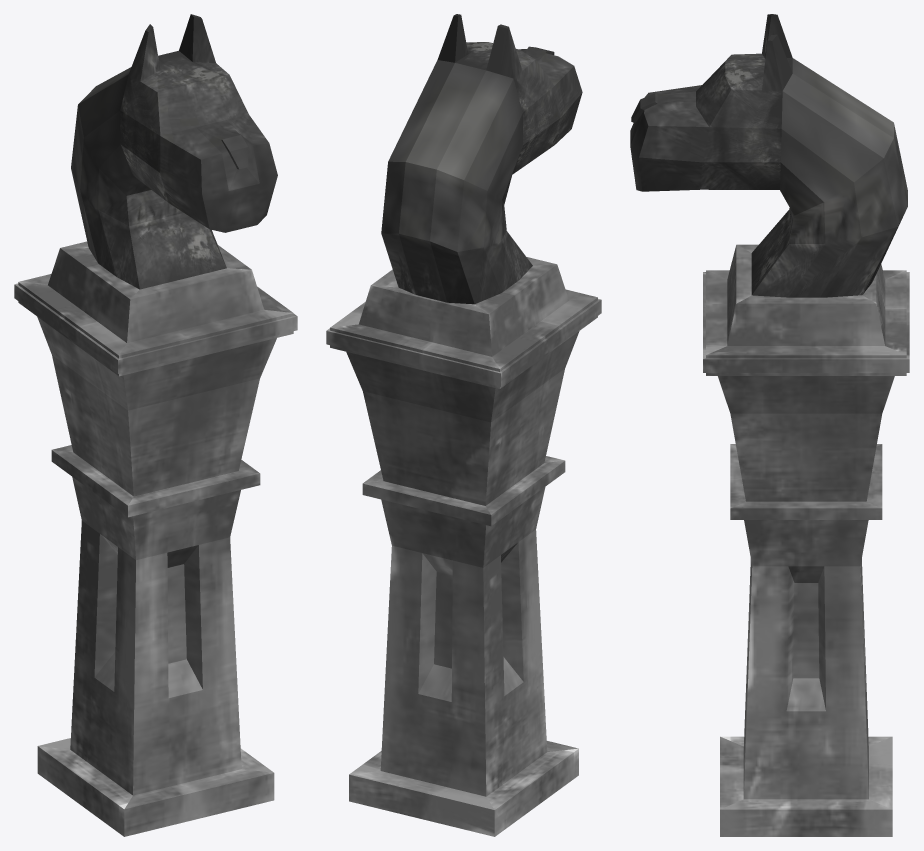
The model's file is Statue.fbx.
3 views of the same model, side by side, from view 1: azimuth 30°, elevation 25°; view 2: azimuth 150°, elevation 25°; view 3: azimuth 270°, elevation 25° (orthographic). The views are drawn at different scales.
Parts seen in each view (by area): view 1: Statue; view 2: Statue; view 3: Statue.
Part boxes in pixels (x1,y1,x2,y2): Statue: (14,14,297,836); Statue: (326,14,601,836); Statue: (630,14,909,836).
Size of the model in its own units: 0.0611 by 0.2529 by 0.0826.
